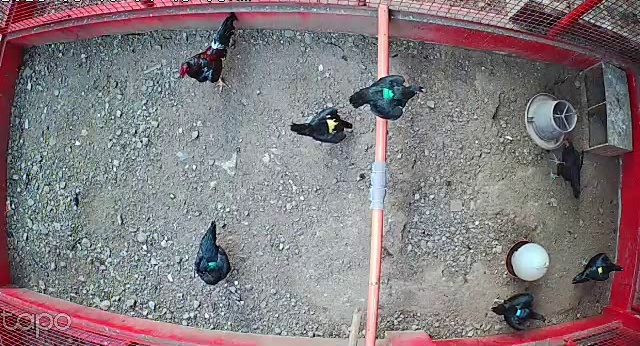Chicken: (346, 73, 430, 119), (289, 95, 362, 147), (190, 218, 235, 286), (489, 286, 552, 331), (545, 139, 587, 201), (569, 244, 628, 287)
Rooster: (176, 16, 251, 91)
Saddle_Color_Blue: (516, 306, 521, 318)
Saddle_Color_Bluegreen: (382, 88, 394, 99)
Saddle_Color_Green: (207, 262, 216, 267)
Saddle_Color_Yellow: (325, 111, 341, 131)
